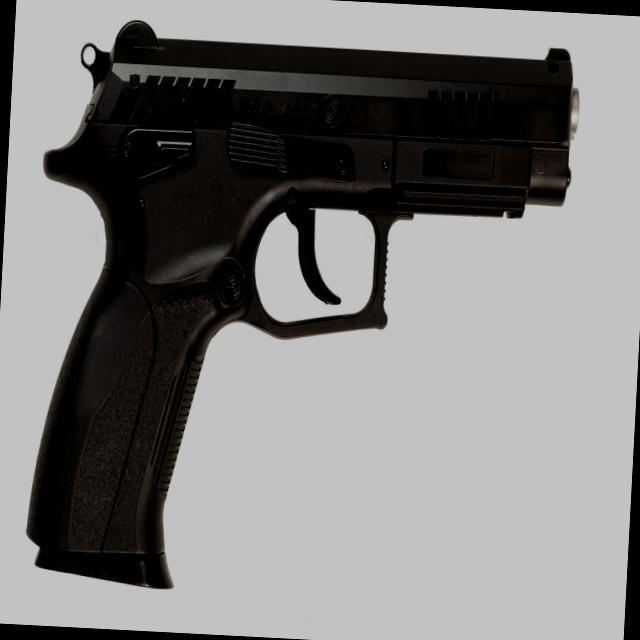handgun: (22, 15, 585, 608)
